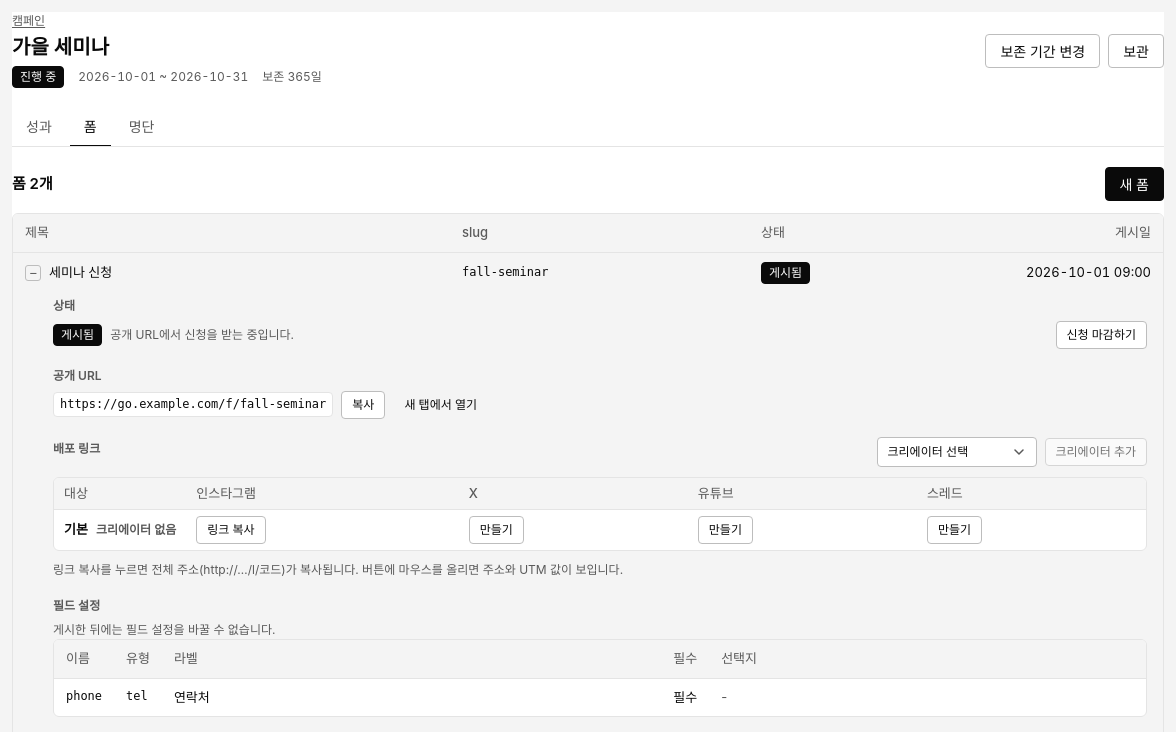
Test: 폼 탭 › 기본 행의 만들기를 누르면 크리에이터 없이 그 채널로 만들고 코드를 보여준다
The width and height of the screenshot is (1176, 732).
Click the button with aria-label "기본 X 링크 만들기".
click(496, 530)  # box [469, 516, 524, 544]
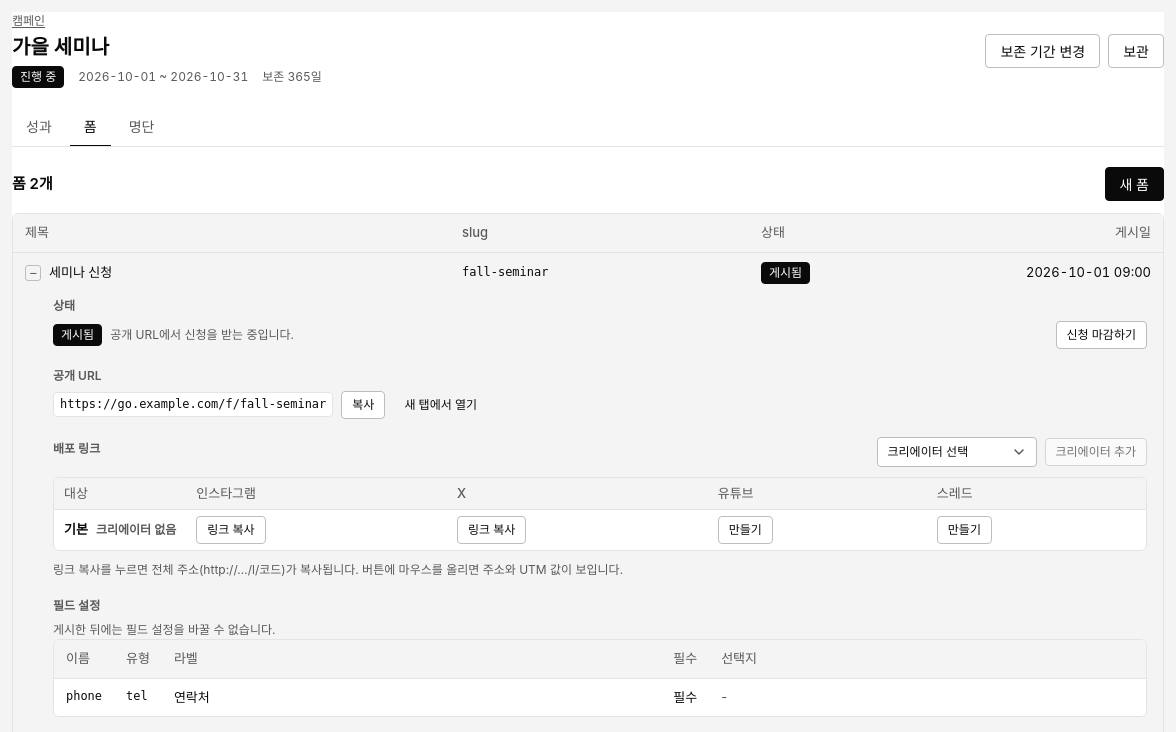
Expected: the button with aria-label "링크 복사: https://go.example.com/l/Zz99" is shown, [457, 516, 526, 544]
